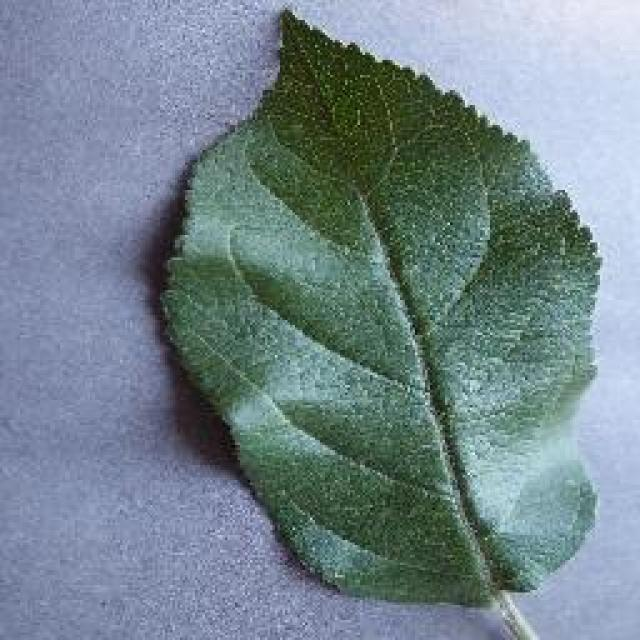apple healthy: (155, 2, 605, 620)
